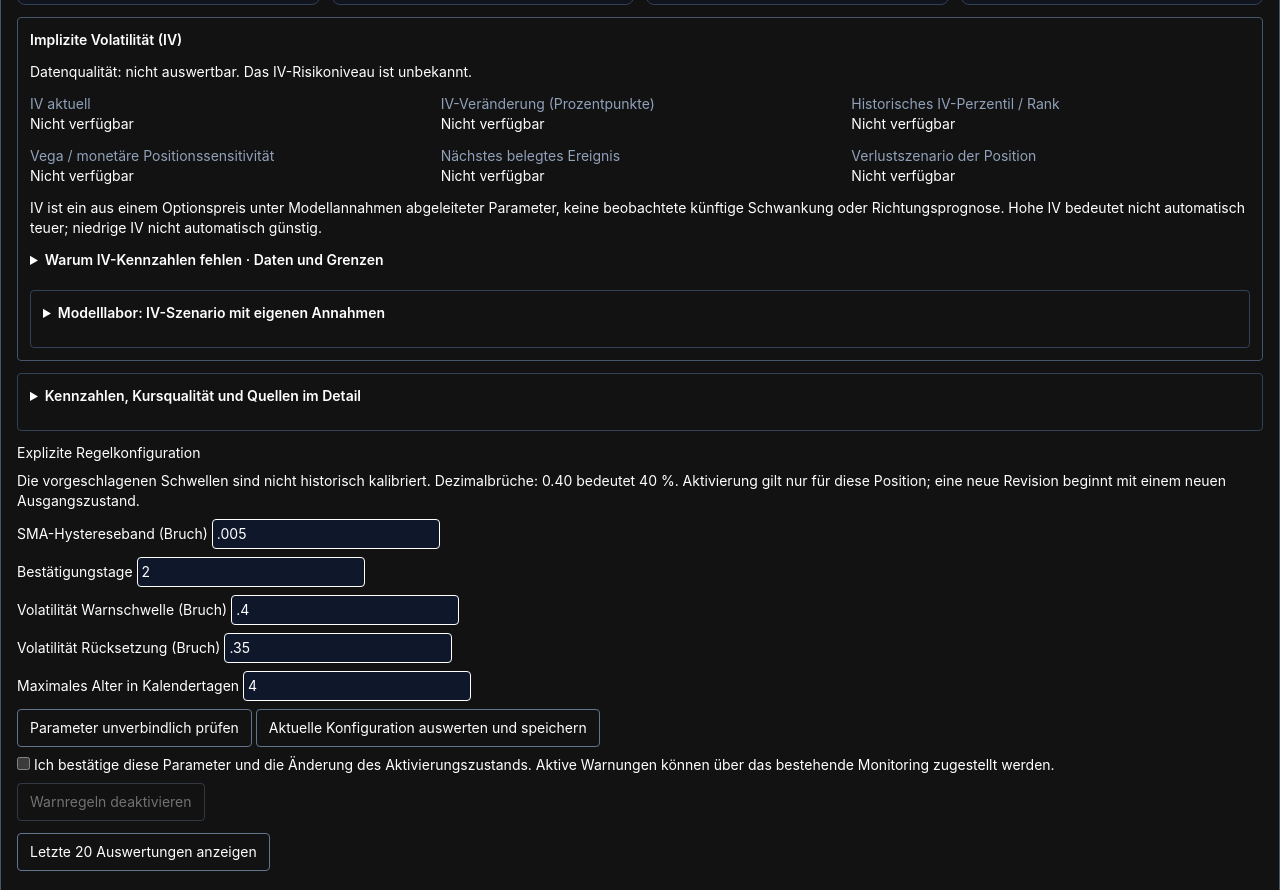
Test: qualified risk panel › shows a pending change and preview independently from active warnings
(page scrolled)
Step 1. Click the button "Parameter unverbindlich prüfen" → (134, 728), box x1=17 y1=709 x2=252 y2=747
(page scrolled)
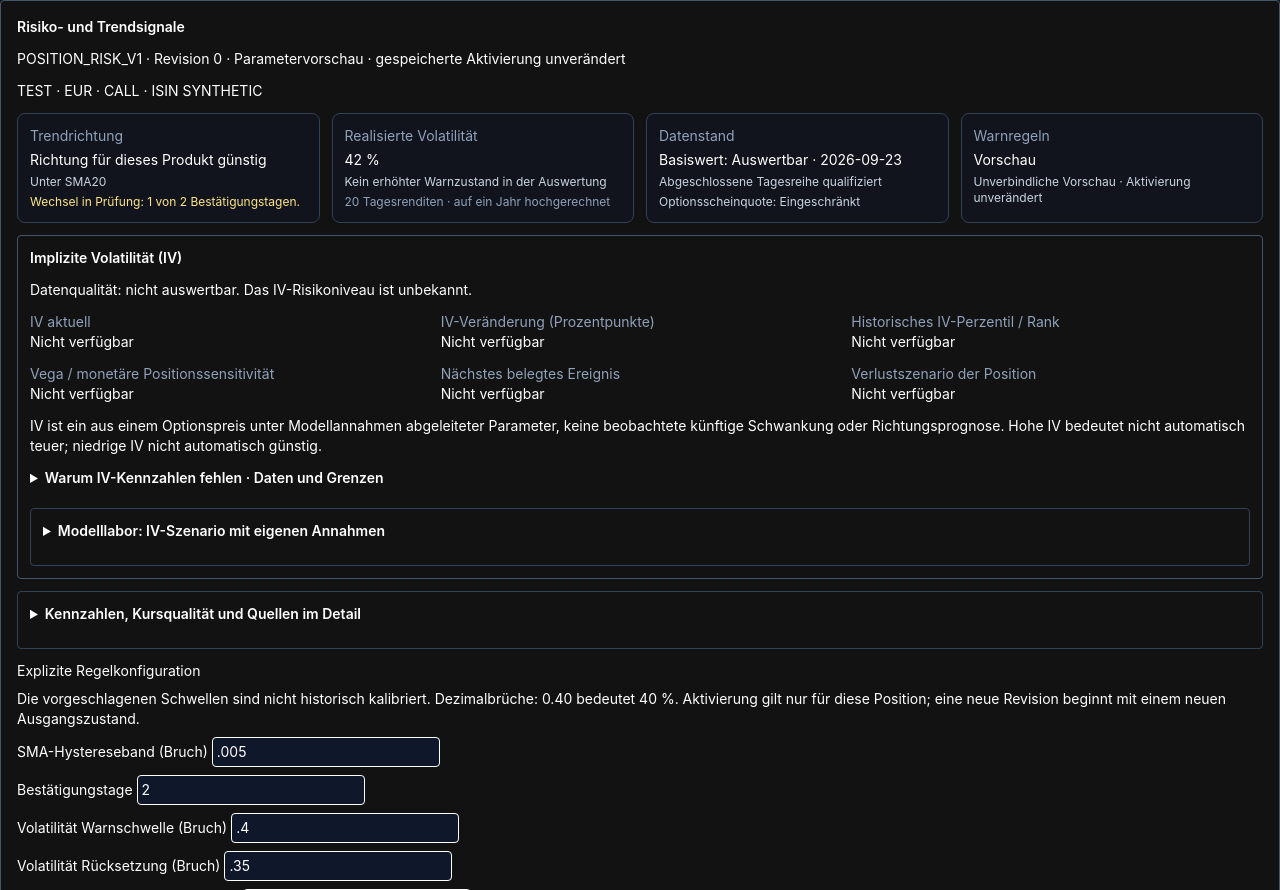
Expected: the text "Unverbindliche Vorschau · Aktivierung unverändert" is shown, x1=974 y1=174 x2=1190 y2=205
Expected: the text "Vorschau" is shown, x1=974 y1=151 x2=1036 y2=168
